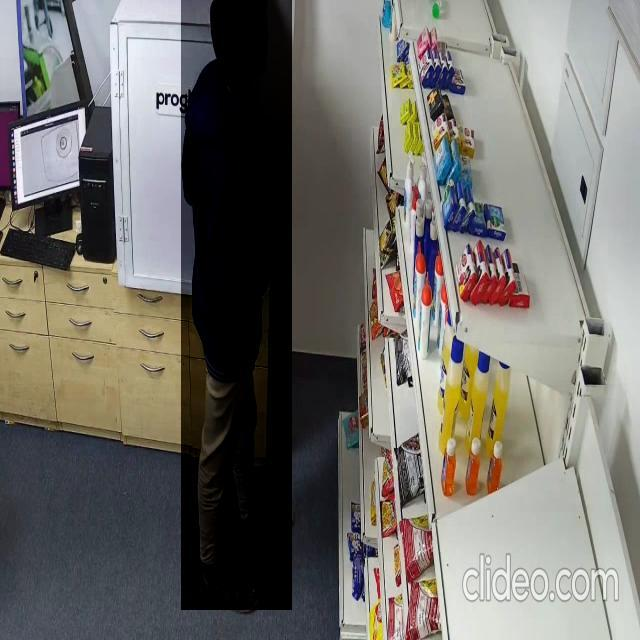Shoplifting: (181, 0, 292, 610)
